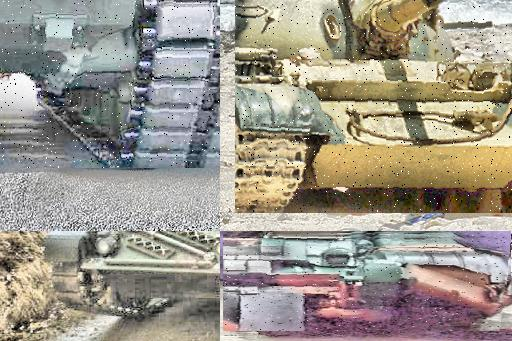tanks: (236, 1, 512, 213), (1, 1, 221, 169), (225, 234, 507, 332), (46, 232, 221, 317)
